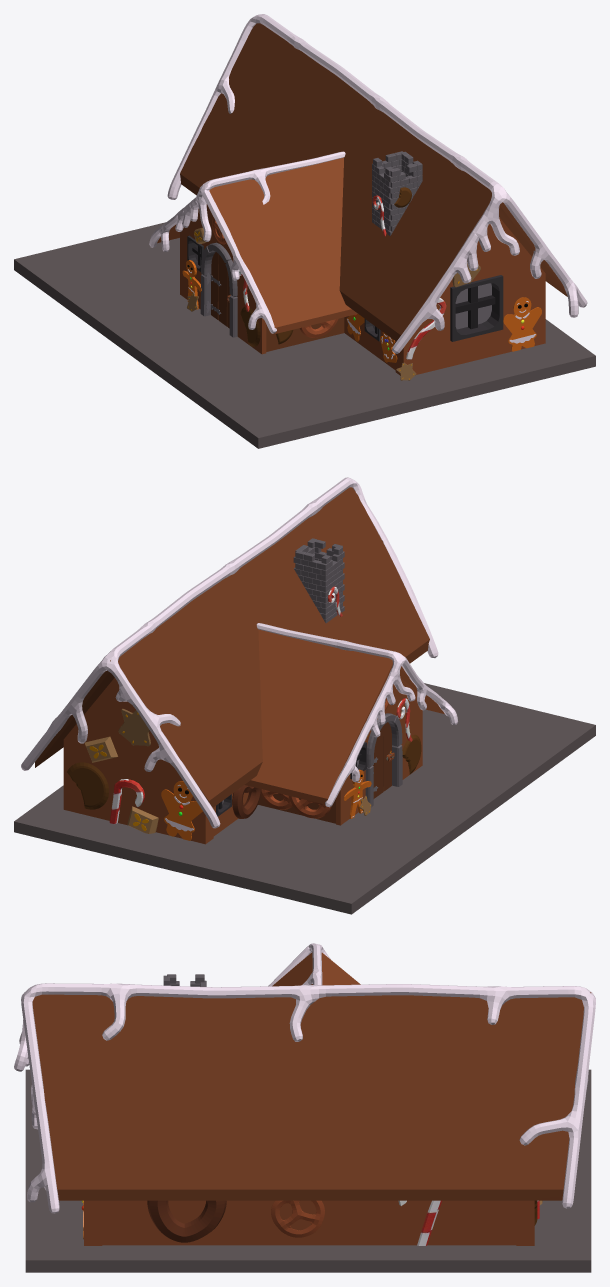
Rendered from Lebkuchen_Haus.fbx.
3 views of the same model, one above another, from view 1: azimuth 30°, elevation 25°; view 2: azimuth 150°, elevation 25°; view 3: azimuth 270°, elevation 25° (orthographic). The views are drawn at different scales.
Visible parts, largest first — view 1: Cube.004, Cube.012, Cube.011, Cube.002, Cube.001, Cube.020; view 2: Cube.004, Cube.012, Cube.001, Cube.002; view 3: Cube.004, Cube.012, Cube.001.
Boxes of the visible parts, <box> form: Cube.004: <box>149,14,587,380</box>; Cube.012: <box>14,222,595,448</box>; Cube.011: <box>187,235,503,341</box>; Cube.002: <box>211,252,229,328</box>; Cube.001: <box>238,195,446,359</box>; Cube.020: <box>195,244,491,329</box>; Cube.004: <box>21,477,457,844</box>; Cube.012: <box>14,683,595,914</box>; Cube.001: <box>109,586,412,824</box>; Cube.002: <box>373,722,391,798</box>; Cube.004: <box>14,943,595,1245</box>; Cube.012: <box>25,1069,591,1272</box>; Cube.001: <box>398,1200,539,1245</box>.
Size of the model in its own units: 409 by 233 by 523.
